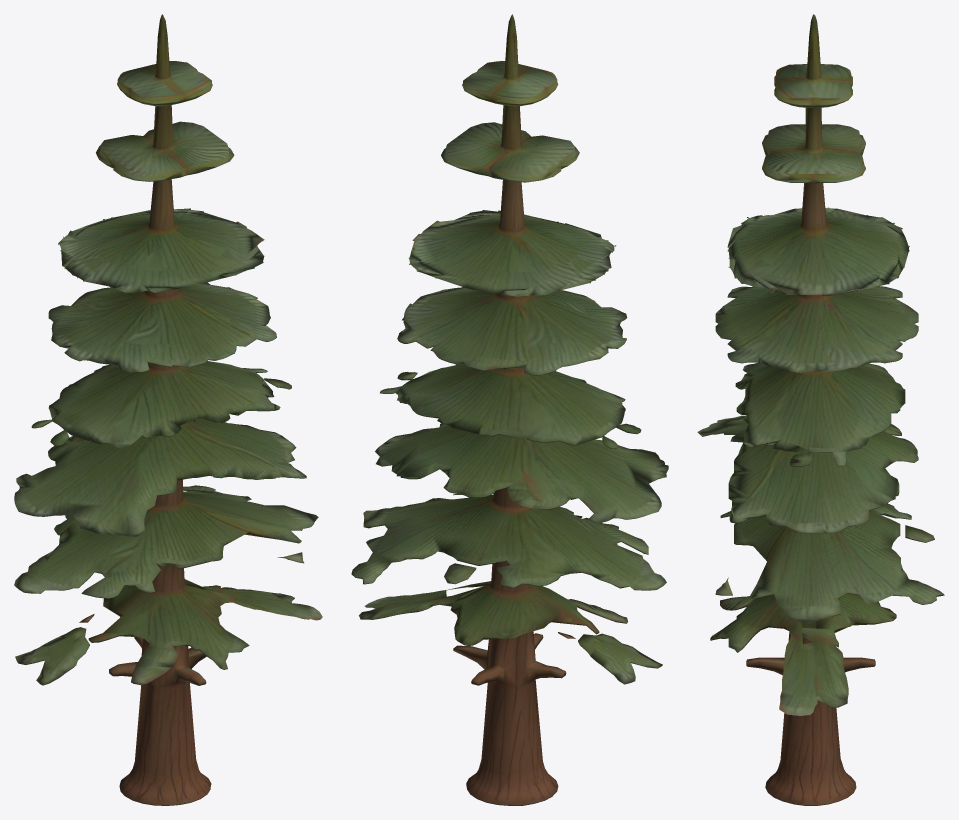
File: a_pine_tree_0524bc92_v2.glb
3 renders of one model, left to right at view 1: azimuth 30°, elevation 25°; view 2: azimuth 150°, elevation 25°; view 3: azimuth 270°, elevation 25°, orthographic.
Parts seen in each view (by area): view 1: material; view 2: material; view 3: material.
Part boxes in pixels (x1=…): material: x1=14, y1=14, x2=322, y2=805; material: x1=351, y1=14, x2=668, y2=805; material: x1=697, y1=14, x2=944, y2=805.
Bounding box in the file's own units: 0.7674 × 1.9 × 0.5526.
Materials: 1 (1 with a texture image).
